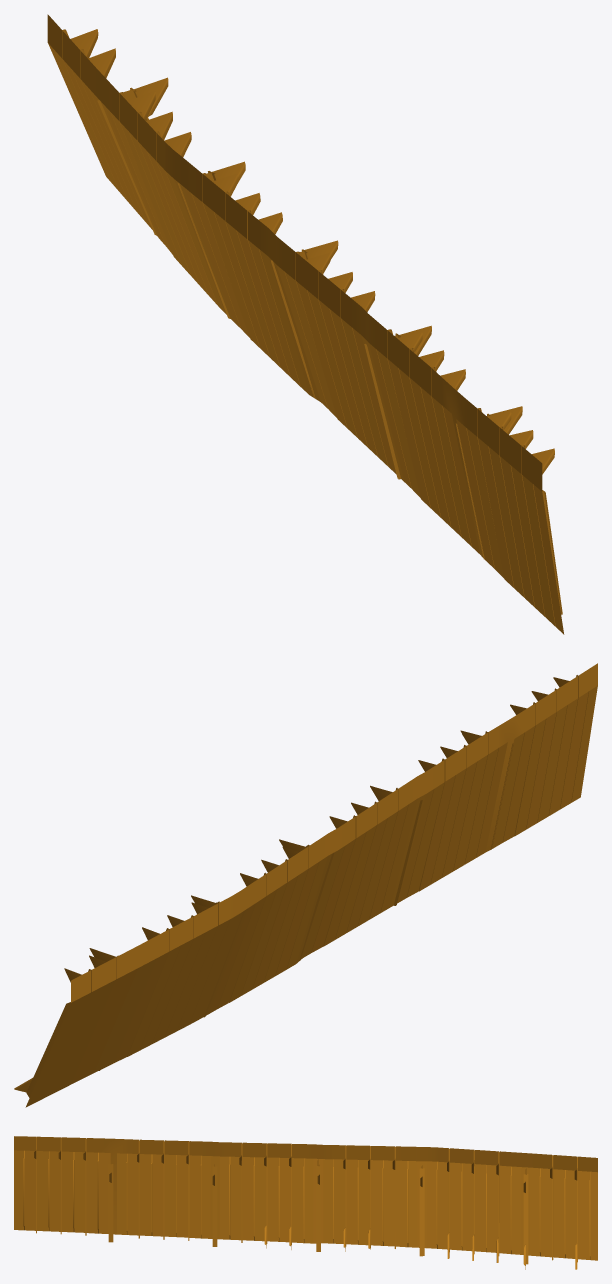
The model's file is Engine17.fbx.
The picture shows the model from 3 angles, top to bottom: view 1: azimuth 30°, elevation 25°; view 2: azimuth 150°, elevation 25°; view 3: azimuth 270°, elevation 25°; orthographic projection. The views are drawn at different scales.
Visible parts, largest first — view 1: board.001; view 2: board.001; view 3: board.001.
Part boxes in pixels (<box>): board.001: <box>47,14,564,634</box>; board.001: <box>14,663,597,1107</box>; board.001: <box>14,1136,597,1269</box>.
Size of the model in its own units: 259 by 237 by 1415.
